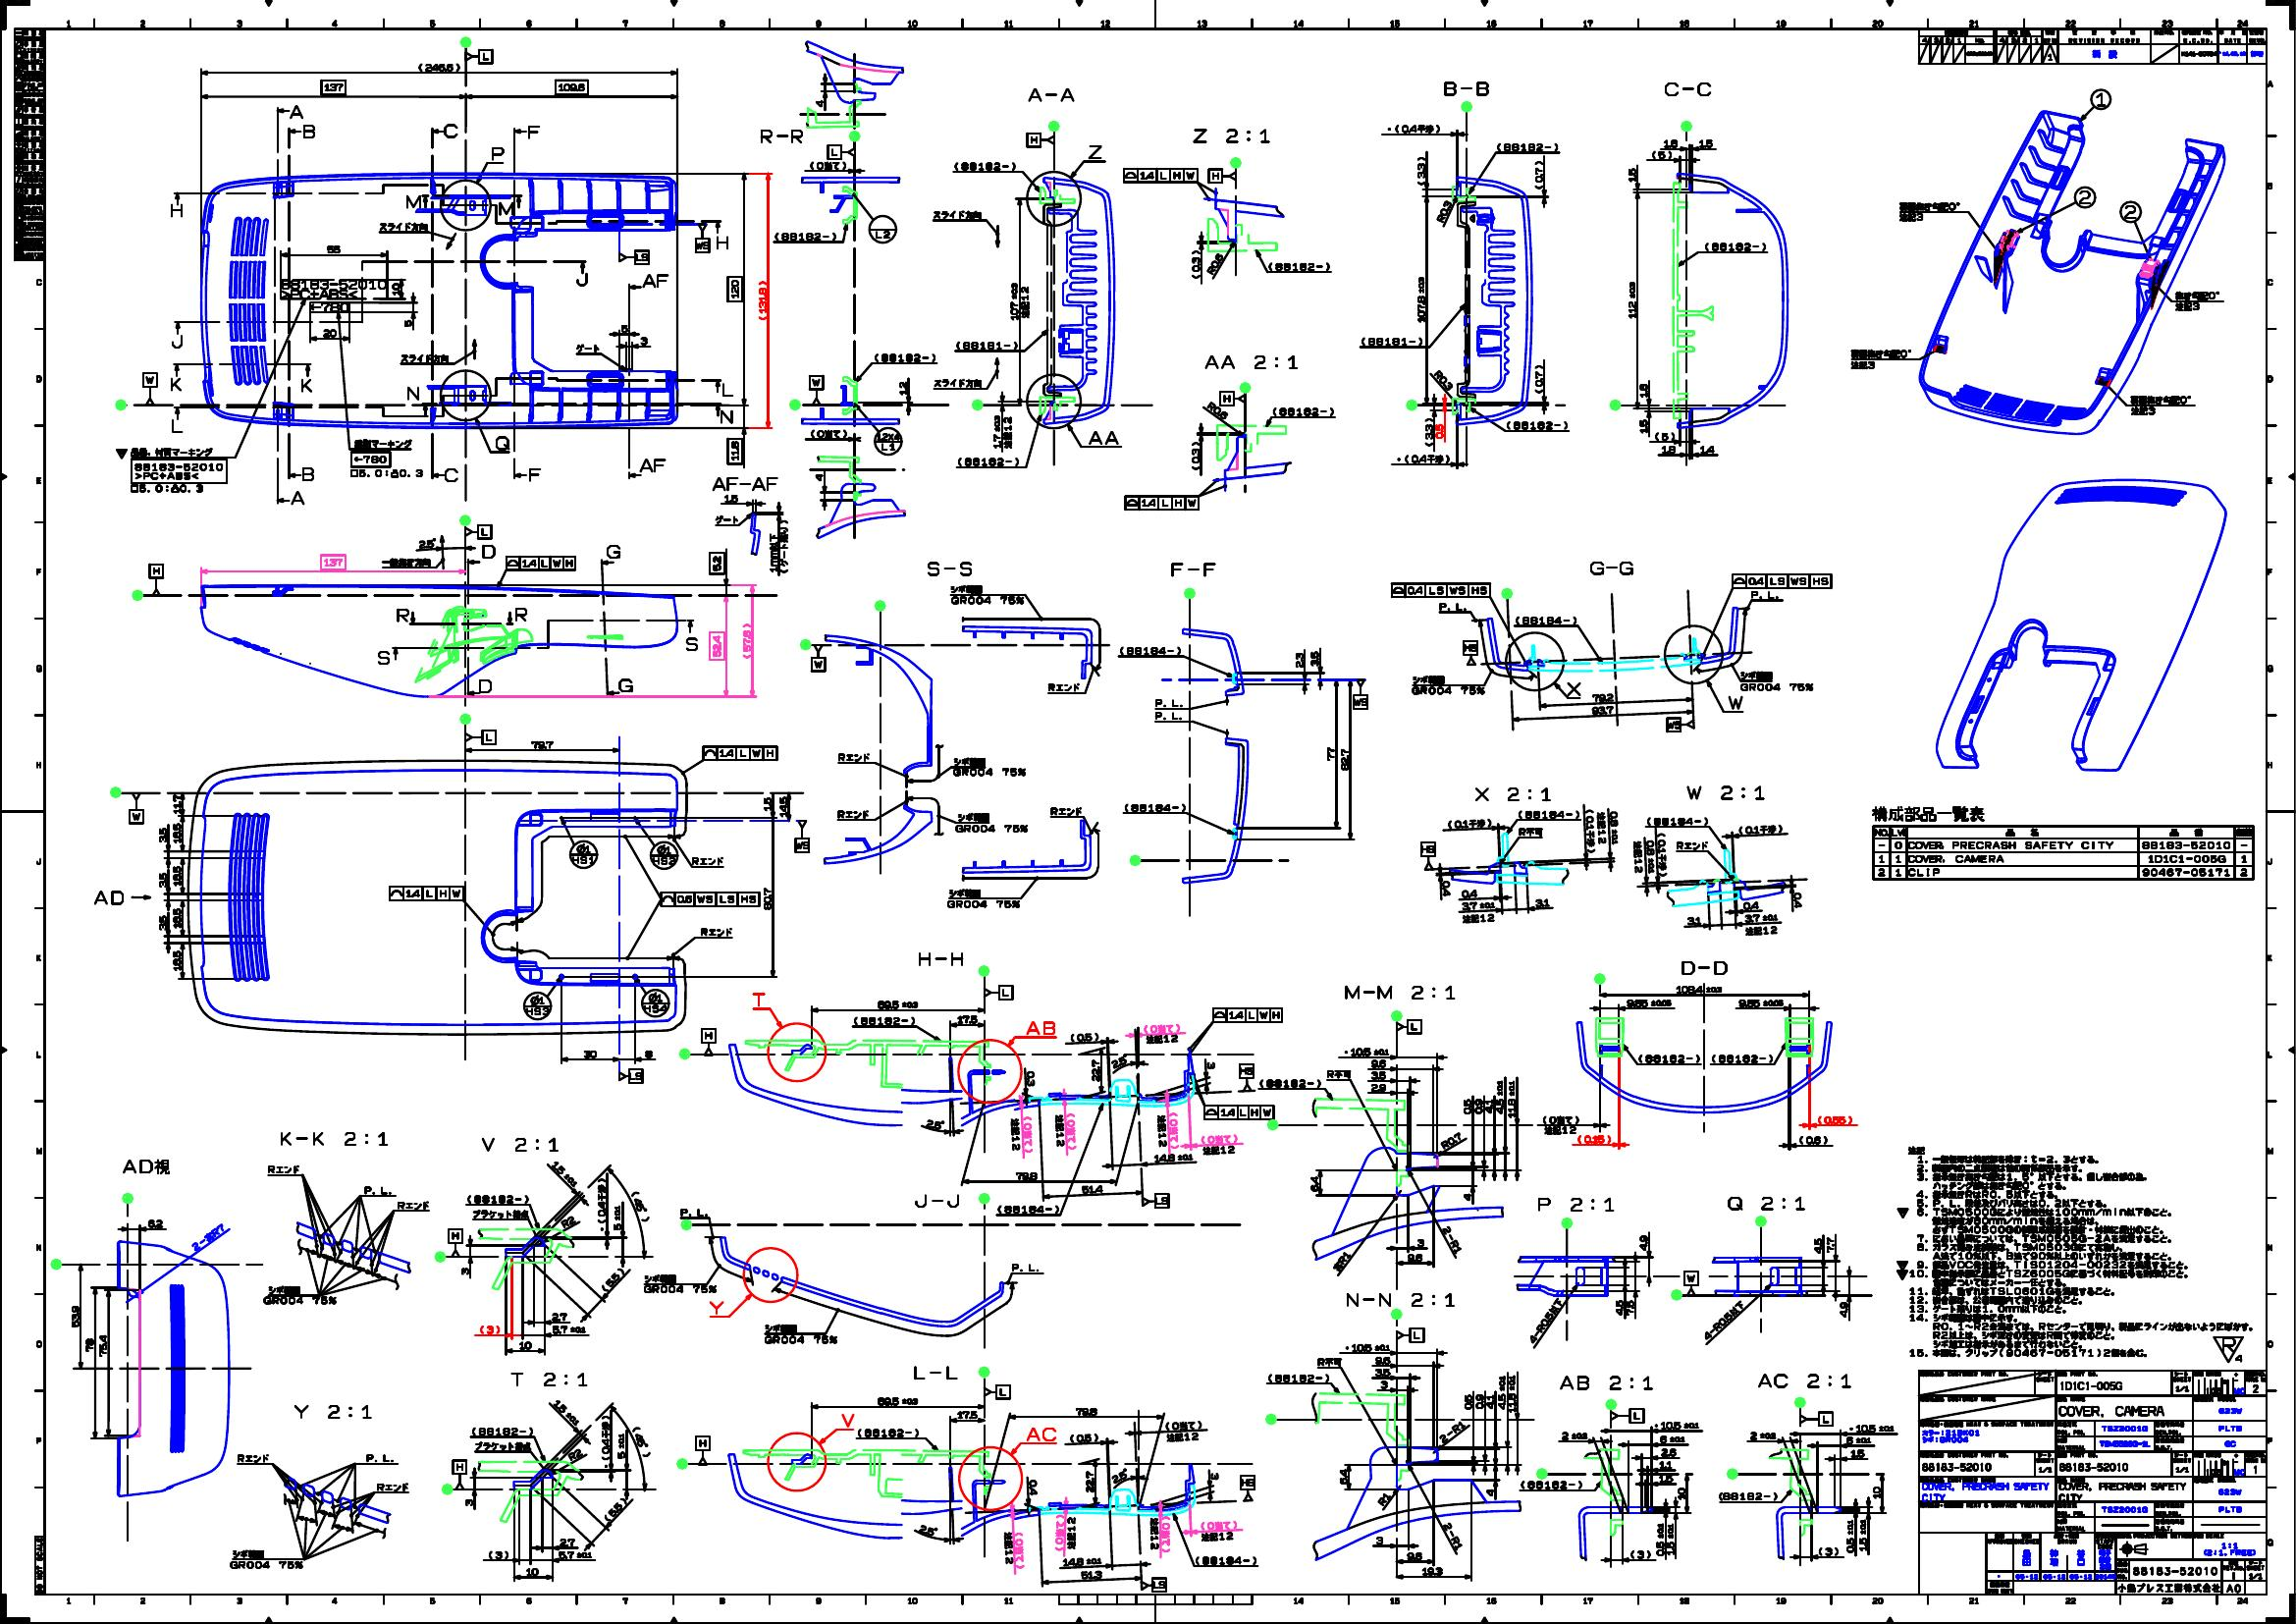anntotation_text: (1894, 1142, 2254, 1360), (1873, 805, 2256, 881), (112, 445, 227, 496), (348, 439, 425, 478), (1340, 982, 1456, 1000), (1344, 1290, 1456, 1308), (278, 1128, 388, 1146), (1556, 1374, 1657, 1392), (1739, 670, 1815, 692), (949, 584, 1024, 606), (954, 812, 1029, 835), (947, 886, 1021, 909), (1757, 1371, 1852, 1388), (1412, 673, 1484, 696), (1723, 1193, 1808, 1213), (1191, 127, 1275, 146), (2127, 394, 2192, 418), (228, 1548, 304, 1570), (1732, 573, 1832, 589), (661, 891, 759, 907), (1391, 582, 1490, 598), (952, 756, 1026, 777), (509, 1369, 588, 1388), (1203, 355, 1298, 371), (262, 1285, 337, 1304), (762, 1323, 838, 1343), (643, 1274, 718, 1294), (1897, 199, 1960, 221), (1850, 348, 1913, 371), (1535, 1195, 1616, 1213), (293, 1403, 374, 1420), (1472, 784, 1551, 801), (388, 884, 464, 902), (1685, 784, 1765, 800), (768, 520, 791, 575), (480, 1135, 557, 1151), (703, 745, 778, 761), (711, 475, 778, 492), (2210, 1334, 2247, 1366), (504, 555, 576, 571), (1212, 1007, 1282, 1023), (1203, 1104, 1274, 1120), (1124, 496, 1200, 510), (1123, 169, 1198, 183), (2175, 288, 2220, 311), (566, 838, 599, 868), (1168, 561, 1219, 580), (1054, 1113, 1079, 1151), (1440, 79, 1490, 98), (1165, 1418, 1203, 1443), (873, 425, 903, 457), (1198, 1519, 1238, 1541), (1008, 1116, 1033, 1153), (1678, 960, 1729, 977), (1662, 79, 1713, 97), (1024, 86, 1075, 104), (1156, 1111, 1179, 1149), (926, 559, 975, 576), (121, 1158, 170, 1176), (1003, 1529, 1024, 1570), (639, 990, 669, 1018), (522, 991, 552, 1019), (870, 213, 898, 243), (648, 842, 680, 868), (1200, 1134, 1238, 1155), (915, 951, 966, 967), (912, 1362, 957, 1380), (1516, 808, 1581, 821), (1695, 1313, 1751, 1327), (1054, 1513, 1075, 1550), (1521, 1478, 1585, 1490), (1360, 336, 1423, 348), (1117, 643, 1180, 656), (913, 1193, 963, 1209), (854, 1014, 915, 1026), (1541, 1114, 1579, 1134), (1149, 1517, 1170, 1552), (1144, 1023, 1179, 1044), (998, 1202, 1058, 1214), (759, 128, 805, 144), (1516, 1315, 1574, 1327), (33, 1536, 46, 1594), (1635, 1053, 1702, 1063), (1702, 241, 1767, 251), (1644, 816, 1709, 826), (1123, 801, 1188, 812), (1267, 260, 1332, 271), (773, 230, 838, 241), (956, 455, 1021, 466), (466, 1193, 531, 1204), (1267, 1373, 1330, 1383), (1258, 1077, 1321, 1088), (1505, 420, 1569, 431), (1495, 141, 1558, 151), (1514, 615, 1578, 626), (1270, 406, 1333, 417), (856, 1427, 919, 1438), (1716, 1490, 1778, 1501), (954, 162, 1015, 172), (956, 339, 1017, 350), (399, 350, 450, 362), (1590, 561, 1634, 575), (1384, 123, 1442, 134), (379, 557, 436, 568), (1393, 453, 1449, 464), (596, 1178, 606, 1234), (601, 1415, 611, 1469), (1709, 1053, 1774, 1062), (471, 1425, 536, 1434), (2119, 199, 2143, 221), (2089, 88, 2113, 111), (148, 562, 163, 598), (1195, 1555, 1258, 1564), (873, 353, 936, 362), (1657, 831, 1669, 875), (931, 209, 982, 220), (93, 889, 126, 905), (128, 791, 144, 824), (794, 819, 810, 852), (141, 373, 156, 406), (2075, 186, 2099, 207), (933, 378, 982, 388), (474, 1441, 532, 1450), (1446, 817, 1493, 828), (808, 374, 824, 406), (1609, 1410, 1644, 1424), (1142, 1192, 1170, 1209), (1419, 842, 1437, 870), (473, 1209, 529, 1218), (1585, 807, 1595, 852), (1026, 1019, 1056, 1035), (984, 984, 1014, 1000), (1665, 717, 1695, 733), (1353, 678, 1368, 708), (450, 1459, 466, 1489), (826, 144, 856, 160), (464, 729, 497, 743), (1799, 1411, 1832, 1425), (1086, 431, 1119, 445), (1024, 1427, 1056, 1441), (984, 1385, 1012, 1401), (1397, 1327, 1425, 1343), (1238, 1063, 1254, 1091), (639, 459, 668, 475), (1217, 390, 1245, 406), (1026, 132, 1054, 148), (466, 47, 494, 63), (446, 1229, 462, 1257), (1734, 824, 1783, 833), (836, 750, 871, 763), (379, 221, 429, 230), (701, 1026, 715, 1056), (1207, 169, 1237, 183), (696, 223, 710, 253), (620, 250, 650, 264), (464, 524, 490, 540), (1140, 1577, 1166, 1592), (1397, 1018, 1423, 1033), (812, 643, 826, 671), (618, 1069, 643, 1084), (1683, 1269, 1699, 1294), (1743, 924, 1780, 935), (1460, 914, 1497, 924), (810, 429, 847, 439), (645, 272, 669, 288), (1632, 838, 1643, 874), (235, 1452, 271, 1462), (1021, 285, 1031, 320), (1240, 1475, 1254, 1501), (1003, 415, 1014, 450), (699, 926, 733, 937), (1597, 810, 1607, 844), (1047, 682, 1080, 692), (1049, 805, 1082, 816), (836, 808, 870, 819), (1463, 640, 1477, 664), (696, 1436, 708, 1464), (808, 160, 847, 169), (1750, 589, 1781, 599), (1316, 1355, 1342, 1367), (1518, 826, 1544, 838), (1437, 601, 1467, 612), (1565, 680, 1583, 698), (1674, 840, 1709, 849), (265, 1165, 300, 1174), (395, 1200, 430, 1209), (713, 513, 738, 526), (1154, 698, 1182, 708), (1154, 710, 1182, 721), (365, 1452, 393, 1462), (364, 1185, 392, 1195), (690, 856, 724, 865), (395, 606, 411, 624), (376, 1483, 408, 1492), (574, 271, 590, 288), (1010, 1262, 1040, 1271), (678, 1207, 708, 1216), (1326, 1069, 1351, 1079), (478, 677, 494, 692), (480, 543, 495, 559), (683, 636, 699, 652), (750, 991, 766, 1007), (300, 466, 316, 482), (290, 490, 306, 506), (406, 385, 422, 401), (490, 146, 506, 162), (1087, 144, 1103, 160), (720, 381, 736, 397), (720, 408, 736, 424), (715, 236, 731, 251), (499, 202, 515, 218), (406, 195, 422, 211), (840, 1411, 856, 1427), (606, 543, 620, 561), (169, 417, 183, 434), (290, 104, 304, 121), (1727, 696, 1744, 710), (574, 344, 601, 353), (378, 650, 392, 666), (513, 606, 527, 622), (618, 677, 632, 692), (169, 202, 183, 218), (169, 334, 183, 350), (169, 376, 183, 392), (299, 376, 313, 392), (444, 468, 458, 483), (495, 434, 509, 450), (529, 466, 543, 482), (302, 125, 316, 141), (443, 123, 457, 139), (527, 123, 541, 139), (708, 1301, 724, 1315)
dimension_text: (555, 79, 588, 95), (877, 998, 919, 1011), (1848, 1422, 1897, 1432), (1674, 982, 1723, 993), (416, 62, 460, 72), (320, 554, 346, 571), (1493, 1077, 1505, 1114), (708, 631, 724, 659), (708, 550, 726, 575), (548, 1406, 583, 1418), (634, 1424, 646, 1459), (632, 1190, 645, 1225), (1416, 274, 1425, 323), (1736, 998, 1785, 1007), (877, 1396, 917, 1406), (188, 1232, 228, 1243), (727, 276, 743, 302), (1342, 1048, 1390, 1056), (1625, 998, 1672, 1007), (1008, 281, 1019, 320), (1505, 1079, 1516, 1118), (1816, 1114, 1855, 1125), (1653, 1420, 1699, 1429), (1655, 1520, 1665, 1557), (1797, 1134, 1829, 1146), (1346, 1343, 1390, 1352), (1572, 1134, 1616, 1142), (727, 438, 741, 464), (757, 279, 766, 322), (546, 1167, 581, 1178), (1845, 1519, 1855, 1554), (1857, 1517, 1867, 1552), (1061, 1557, 1101, 1566), (552, 1323, 585, 1334), (993, 415, 1003, 448), (1665, 1522, 1676, 1555), (1507, 1374, 1516, 1413), (1154, 1153, 1193, 1162), (1627, 279, 1635, 318), (1416, 155, 1426, 186), (1609, 808, 1618, 845), (1460, 900, 1497, 909), (1743, 914, 1780, 923), (741, 622, 750, 659), (615, 1432, 627, 1459), (1430, 374, 1456, 387), (1750, 1429, 1776, 1441), (321, 81, 344, 95), (1437, 1531, 1467, 1541), (1423, 417, 1433, 446), (1498, 1374, 1507, 1410), (1646, 840, 1655, 875), (557, 1550, 592, 1559), (1070, 1033, 1098, 1044), (1070, 1432, 1098, 1443), (1534, 162, 1544, 190), (1560, 1429, 1588, 1439), (1628, 1548, 1651, 1561), (1439, 1135, 1465, 1146), (1435, 1427, 1467, 1436), (599, 1504, 631, 1513), (596, 1276, 627, 1285), (1534, 364, 1542, 395), (1846, 1434, 1873, 1445), (1191, 248, 1200, 278), (1191, 441, 1200, 471), (1437, 1236, 1467, 1244), (1079, 1570, 1103, 1580), (1339, 747, 1349, 772), (761, 886, 771, 910), (1203, 258, 1228, 269), (1330, 1257, 1354, 1267), (956, 1014, 978, 1025), (1084, 1469, 1094, 1492), (97, 1334, 107, 1357), (1207, 406, 1230, 417), (1816, 1545, 1839, 1555), (529, 740, 555, 749), (1658, 1434, 1685, 1443), (1421, 1566, 1442, 1577), (778, 796, 789, 817), (170, 823, 181, 844), (1433, 206, 1455, 216), (1651, 149, 1672, 160), (1110, 1055, 1128, 1067), (613, 1204, 622, 1229), (1073, 1406, 1098, 1415), (1460, 888, 1479, 898), (480, 1323, 499, 1334), (418, 538, 437, 548), (1655, 431, 1674, 441), (1015, 1171, 1038, 1179), (1080, 1185, 1103, 1193), (956, 1410, 978, 1418), (1592, 692, 1614, 701), (1590, 705, 1613, 714), (172, 865, 181, 888), (70, 1304, 79, 1327), (1024, 1070, 1036, 1086), (926, 1118, 943, 1128), (1028, 1478, 1038, 1496), (1792, 891, 1802, 909), (1293, 650, 1303, 668), (172, 951, 181, 972), (172, 907, 181, 928), (172, 794, 181, 816), (566, 1450, 583, 1461), (1370, 1058, 1388, 1069), (1660, 1446, 1678, 1457), (1838, 1301, 1848, 1318), (917, 1526, 936, 1534), (488, 1550, 508, 1559), (1658, 445, 1678, 453), (1309, 1174, 1318, 1193), (1614, 1299, 1623, 1318), (722, 494, 738, 504), (1534, 896, 1549, 907), (1474, 1394, 1484, 1410), (1110, 1469, 1126, 1480), (321, 327, 337, 337), (148, 1218, 163, 1229), (1664, 139, 1679, 149), (1676, 1485, 1686, 1501), (1871, 1485, 1881, 1501), (1405, 1552, 1423, 1561), (1339, 1468, 1347, 1485), (1374, 1355, 1391, 1364), (550, 1311, 567, 1320), (559, 1218, 576, 1227), (1309, 650, 1318, 668), (158, 914, 167, 932), (158, 872, 167, 889), (158, 826, 167, 844), (898, 380, 906, 397), (1405, 1253, 1423, 1262), (1463, 1098, 1472, 1116), (1825, 1236, 1834, 1253), (1639, 1234, 1648, 1251), (1442, 879, 1451, 896), (1433, 424, 1444, 438), (1699, 137, 1713, 148), (1658, 1459, 1672, 1469), (1375, 1494, 1391, 1503), (1463, 1394, 1472, 1410), (1374, 1367, 1390, 1376), (1743, 902, 1758, 910), (762, 796, 771, 812), (1627, 167, 1635, 183), (1639, 383, 1648, 399), (1639, 418, 1648, 434), (1370, 1070, 1386, 1079), (1370, 1083, 1386, 1091), (1474, 1098, 1483, 1114), (1699, 445, 1715, 453), (1850, 1448, 1866, 1457), (1813, 1237, 1822, 1253), (1627, 1299, 1634, 1318), (518, 1341, 532, 1350), (1686, 916, 1700, 924), (583, 1049, 597, 1058), (327, 244, 341, 253), (84, 1338, 93, 1352), (525, 1568, 539, 1577), (1658, 1475, 1672, 1483), (1486, 1394, 1493, 1410), (559, 1538, 574, 1545), (813, 98, 824, 109), (1484, 1098, 1491, 1114), (1209, 1471, 1221, 1480), (1326, 747, 1333, 761), (639, 336, 648, 346), (1207, 1060, 1216, 1070), (402, 320, 413, 329), (464, 1497, 473, 1508), (620, 323, 629, 332), (645, 1049, 653, 1058), (1416, 1237, 1425, 1246), (1484, 1489, 1495, 1496), (1375, 1536, 1383, 1545), (1381, 1380, 1388, 1388), (460, 1267, 469, 1274), (815, 473, 822, 482)
object: (183, 756, 689, 1037), (197, 169, 680, 431), (1917, 105, 2231, 439), (1932, 473, 2227, 772), (824, 615, 1100, 881), (199, 582, 683, 698), (801, 39, 910, 541), (724, 1445, 1198, 1545), (727, 1035, 1198, 1128), (1309, 1388, 1523, 1559), (706, 1234, 1017, 1339), (1669, 170, 1792, 431), (1312, 1095, 1504, 1262), (112, 1237, 234, 1496), (1574, 1014, 1832, 1118), (1205, 197, 1293, 480), (1448, 174, 1534, 425), (1036, 174, 1117, 424), (1476, 606, 1748, 680), (1180, 626, 1251, 884), (1576, 1446, 1657, 1562), (1765, 1446, 1841, 1562), (1665, 849, 1787, 909), (293, 1218, 411, 1278), (476, 1459, 583, 1522), (1449, 831, 1569, 886), (478, 1227, 576, 1292), (283, 1476, 392, 1526), (1516, 1253, 1609, 1299), (1711, 1255, 1806, 1297)
title_block: (1917, 1369, 2268, 1594), (1917, 26, 2268, 63), (12, 26, 46, 262)
